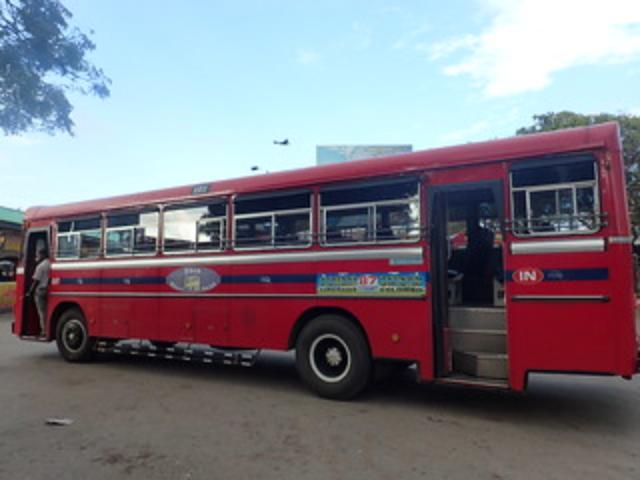bus: (12, 122, 640, 394)
